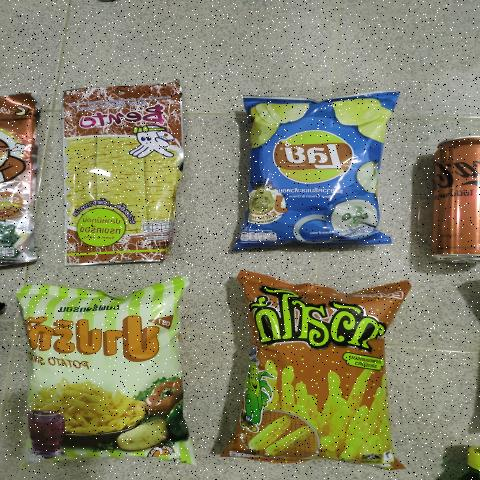bento_red: (62, 80, 182, 264)
coke_red: (431, 138, 480, 268)
lay_blue: (253, 98, 381, 238)
paprika: (29, 292, 187, 459)
twisco: (227, 284, 402, 457)
